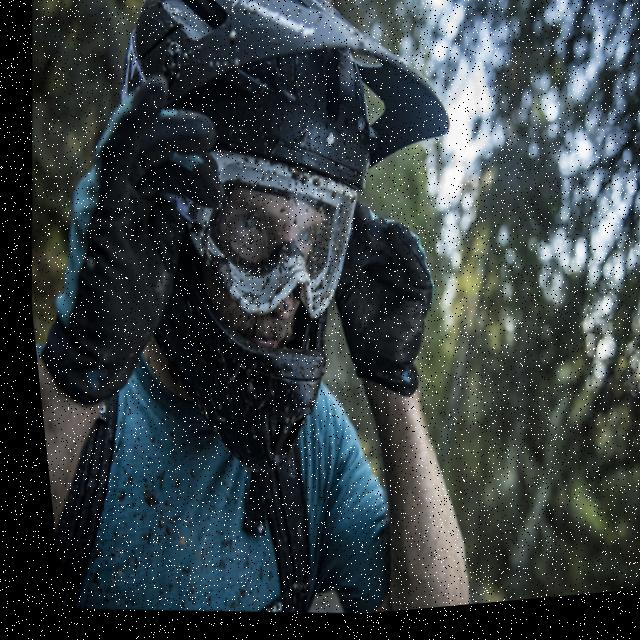illegal_helmet: (63, 0, 496, 517)
